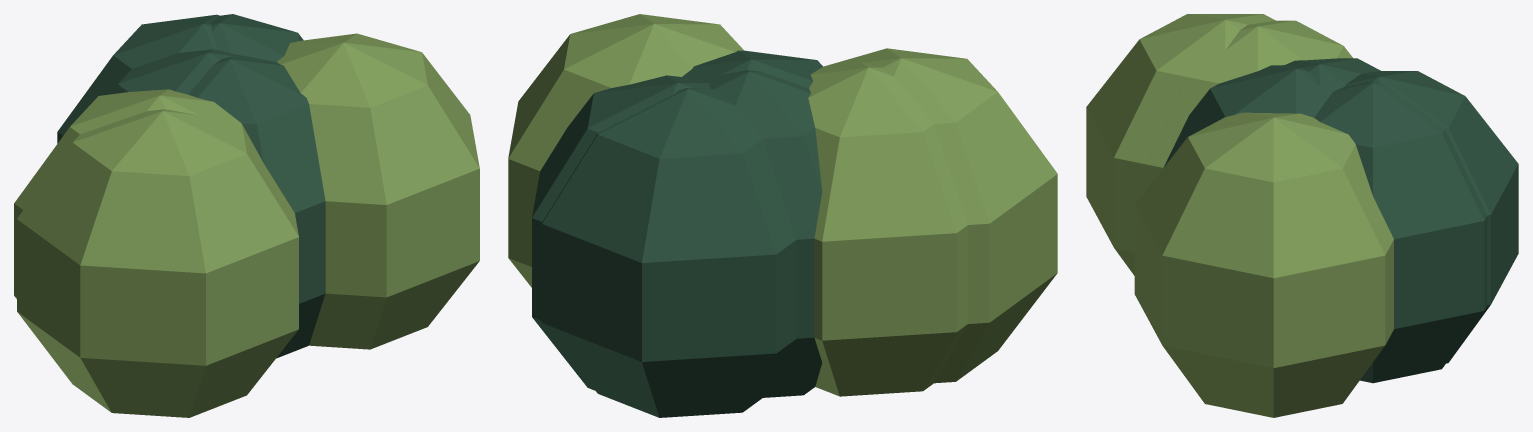
File: nature-round-bush.lod0.glb
The picture shows the model from 3 angles, left to right: view 1: azimuth 30°, elevation 25°; view 2: azimuth 150°, elevation 25°; view 3: azimuth 270°, elevation 25°; orthographic projection. The views are drawn at different scales.
Visible parts, largest first — view 1: nature-round-bush__body; view 2: nature-round-bush__body; view 3: nature-round-bush__body.
Boxes of the visible parts, x1=… form: nature-round-bush__body: x1=14, y1=14, x2=479, y2=417; nature-round-bush__body: x1=508, y1=14, x2=1057, y2=417; nature-round-bush__body: x1=1086, y1=14, x2=1518, y2=417.
Bounding box in the file's own units: 1.41 × 0.9 × 1.21.
